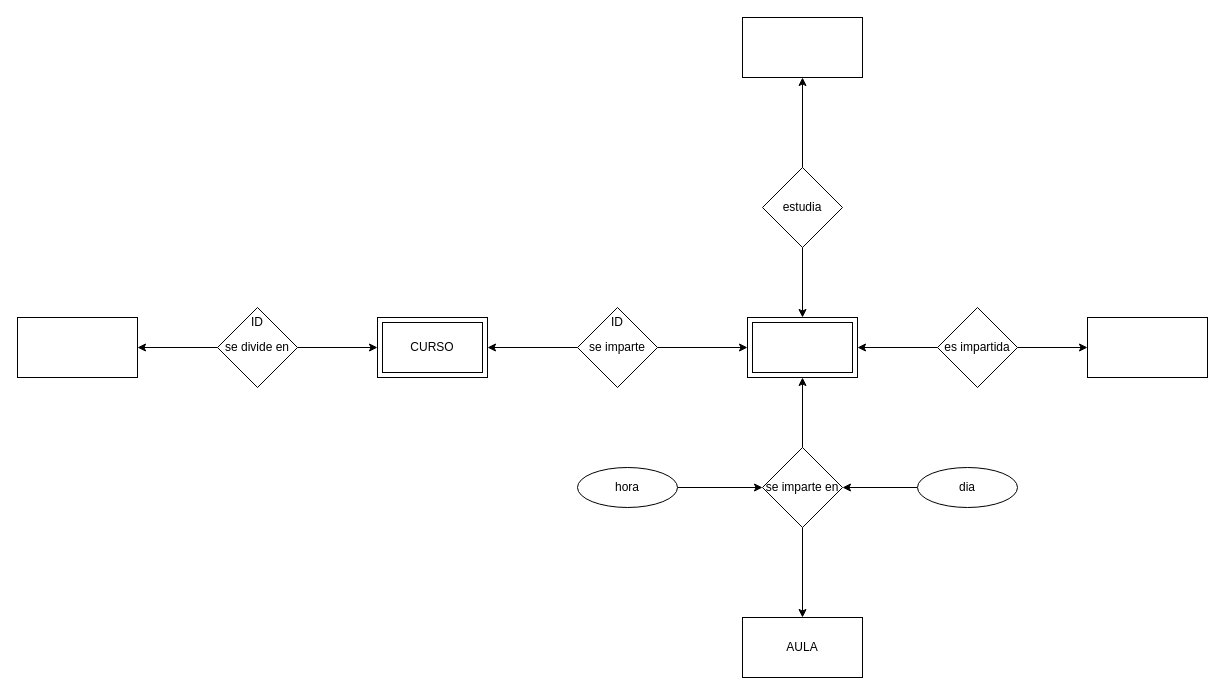
The diagram is 1225 pixels wide and 695 high, and some of its shapes have lost their labels. The shapes that lost their labels are listed below. From the top down, each one's centre as x and y in pixels, then its label:
At point (802, 47): "ESTUDIANTE".
At point (77, 347): "NIVEL".
At point (802, 347): "ASIGNATURA".
At point (1147, 347): "PROFESOR".
